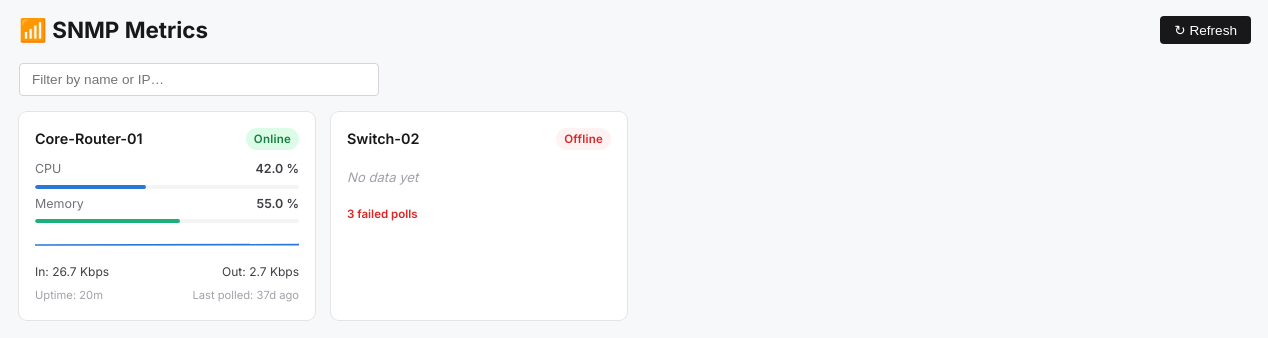
Scenario: SnmpMetrics — fleet glance (level 1) › filters the grid by name/IP
The image size is (1268, 338).
Expected: the text "Core-Router-01" is shown, [35,128,143,150]
Type "switch" into the search field with placeholder "Filter by name or IP…" at (199, 79), box [19,63,379,96]
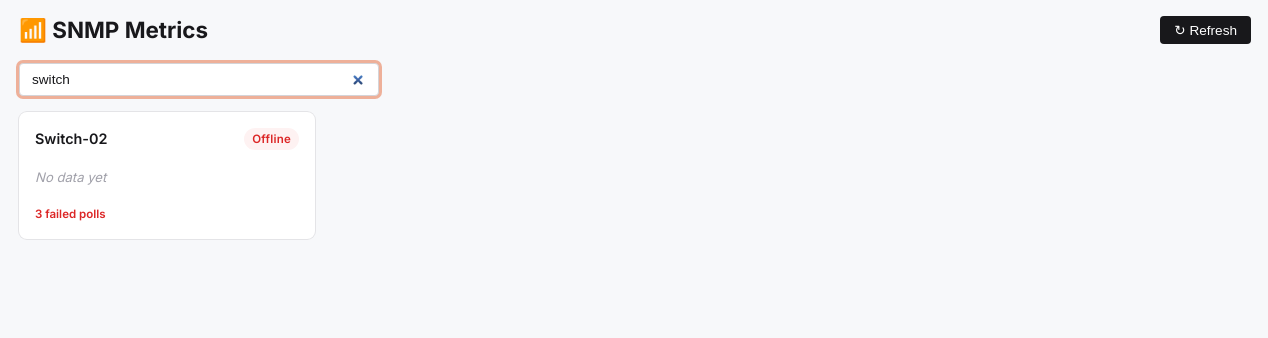
Expected: the text "Switch-02" is shown, [35,128,108,150]
Expected: the link "Core-Router-01" is gone
